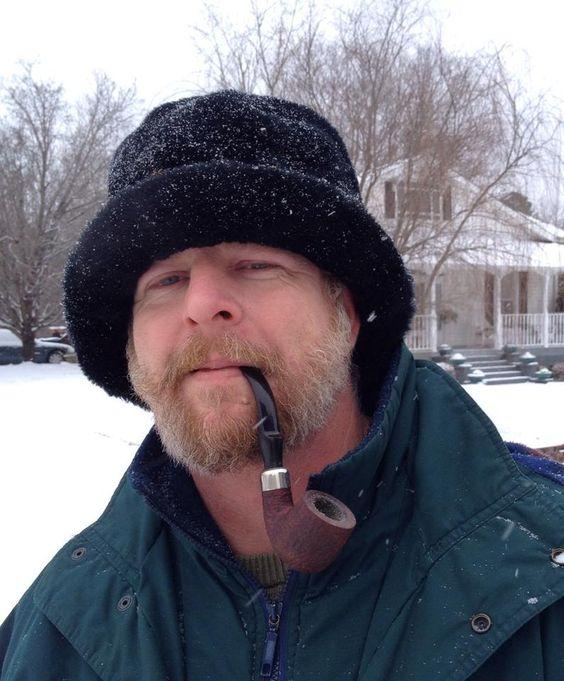trubka: (238, 366, 355, 571)
